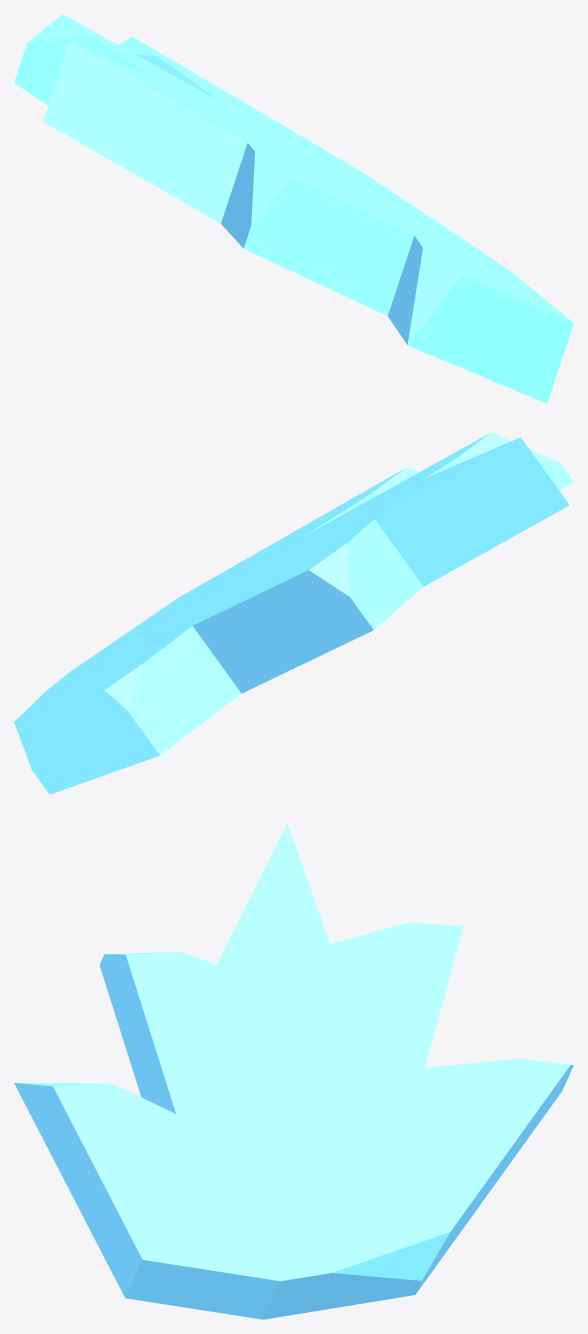
File: BotonPrendido.gltf
3 views of the same model, one above another, from view 1: azimuth 30°, elevation 25°; view 2: azimuth 150°, elevation 25°; view 3: azimuth 270°, elevation 25° (orthographic). The views are drawn at different scales.
Parts seen in each view (by area): view 1: Cylinder.011; view 2: Cylinder.011; view 3: Cylinder.011.
Boxes of the visible parts, left/top/right/bottom form: Cylinder.011: left=14, top=14, right=573, bottom=403; Cylinder.011: left=14, top=432, right=573, bottom=794; Cylinder.011: left=14, top=823, right=573, bottom=1319.
Bounding box in the file's own units: 0.2851 × 0.2292 × 0.3491.
